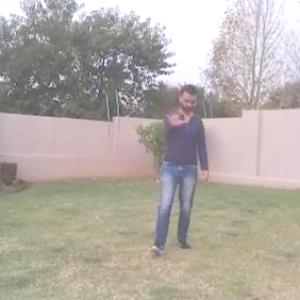follow_hand: (162, 98, 189, 128)
